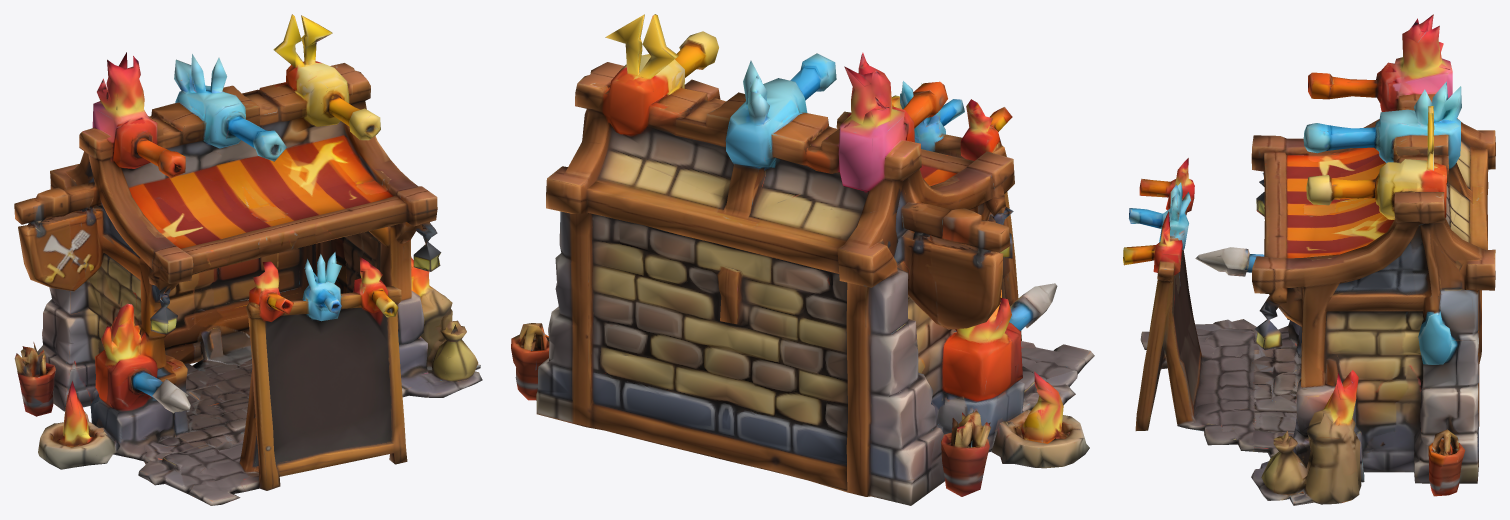
File: Meshy_AI_Elemental_Blacksmith__1217005602_texture.fbx
3 views of the same model, side by side, from view 1: azimuth 30°, elevation 25°; view 2: azimuth 150°, elevation 25°; view 3: azimuth 270°, elevation 25° (orthographic). The views are drawn at different scales.
Visible parts, largest first — view 1: Mesh_0; view 2: Mesh_0; view 3: Mesh_0.
Boxes of the visible parts, x1,y1,x2,y2 form: Mesh_0: (14, 14, 482, 505); Mesh_0: (511, 14, 1094, 505); Mesh_0: (1123, 14, 1495, 505).
Bounding box in the file's own units: 191 × 147 × 143.
Materials: 1 (1 with a texture image).
